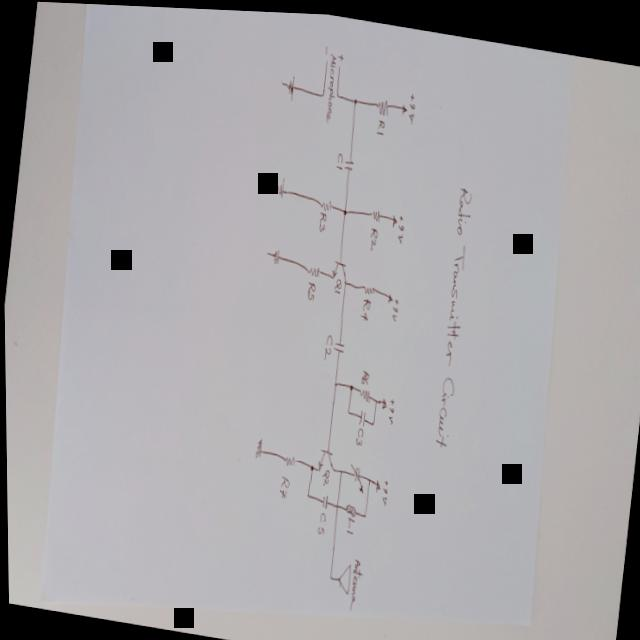capacitor: (346, 458, 365, 490), (343, 152, 355, 168), (331, 336, 344, 350), (356, 404, 366, 422), (319, 488, 328, 506)
ground: (279, 69, 297, 98), (270, 170, 286, 196), (264, 242, 280, 262), (253, 432, 262, 457)
inductor: (343, 498, 357, 513)
junction: (352, 92, 358, 101), (348, 378, 353, 387), (308, 460, 313, 468), (342, 204, 347, 212), (333, 498, 338, 506), (370, 415, 375, 423), (320, 86, 325, 94), (335, 88, 340, 95), (333, 376, 338, 383), (345, 404, 350, 411), (305, 488, 309, 495), (338, 464, 342, 470), (361, 508, 365, 514), (373, 393, 377, 399), (328, 571, 332, 576), (367, 473, 370, 479)
resistor: (373, 92, 390, 112), (305, 260, 320, 275), (356, 383, 370, 398), (319, 193, 333, 208), (282, 450, 295, 464), (369, 203, 381, 218), (361, 279, 374, 290)
source: (390, 209, 398, 224), (373, 474, 381, 489), (380, 392, 387, 406), (401, 98, 408, 111), (387, 287, 393, 301)
terminal: (338, 59, 342, 65), (326, 54, 329, 58)
text: (427, 179, 479, 447), (321, 48, 340, 121), (346, 553, 363, 608), (406, 86, 418, 122), (321, 328, 334, 360), (358, 292, 372, 319), (395, 209, 406, 240), (277, 470, 290, 496), (367, 221, 379, 248), (385, 391, 395, 421), (316, 506, 326, 533), (379, 473, 388, 502), (317, 206, 328, 229), (305, 275, 316, 298), (353, 422, 364, 443), (390, 292, 399, 317), (375, 113, 386, 132), (344, 511, 354, 531), (319, 463, 329, 483), (359, 363, 369, 382), (335, 147, 345, 166), (333, 272, 343, 290), (336, 47, 344, 58), (324, 40, 329, 52)
transistor: (315, 443, 336, 470), (329, 254, 350, 281)
